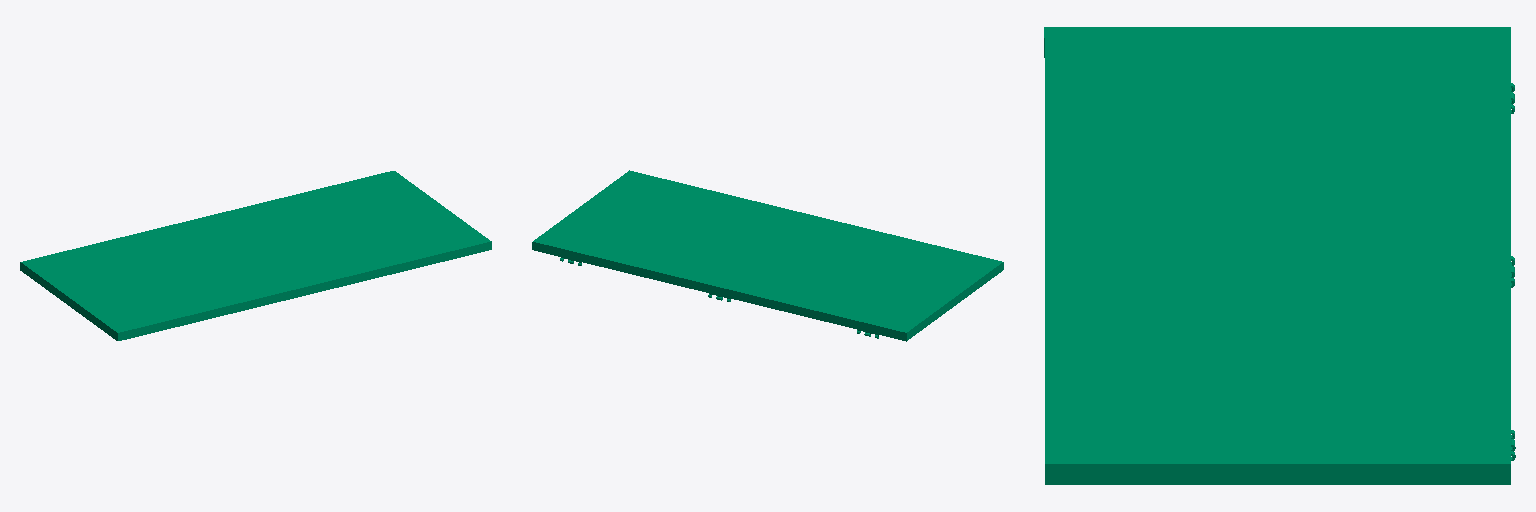
The robot description file, URDF, robot "door_test":
<robot name = 'door_test' xmlns:xacro="http://ros.org/wiki/xacro">
    <!-- <link name = 'world'/> -->
    
    <!-- <joint name = 'world2base' type = 'fixed'>
        <parent link = 'world'/>
        <child link = 'base_link'/>
    </joint> -->

    <link name = 'base_link'/>
        
    <joint name = 'base_joint' type = 'fixed'>
        <parent link = 'base_link'/>
        <origin xyz = '0 -0.5 0.0' rpy='0 0 0'/>
        <!-- if move y : the door will slide -->
        <child link = 'door_frame'/>
    </joint>

    <link name = 'door_frame'>
        <visual>
            <geometry>
                <mesh filename = './meshes/frame.dae'/>
            </geometry>
            <origin xyz = '0 0 0' rpy = '1.57 0 0'/>
            <!-- <color rgba = '0.5 0.5 0.5 1.0'/> -->
        </visual>
        <!-- <collision name = "door frame_collision">
            <geometry>
                <mesh filename = './meshes/frame.dae'/>
                <origin xyz = '0.5 0 0' rpy = '1.57 0 0'/>
            </geometry>
        </collision> -->
        <collision name="side_1_:hinge_side">
            <geometry>
                <box size = '0.05029 0.06858 2.10820'/>
            </geometry>
            <origin xyz = '-0.02 0.02 1.05' rpy = '0 0 0'/>
        </collision>
        <collision name="side_2">
            <geometry>
                <box size = '0.05029 0.06858 2.10820'/>
            </geometry>
            <origin xyz="-0.02 1.02 1.05" rpy="0 0 0"/>
        </collision>
        <collision name="top">
            <geometry>
                <box size = '0.05029 0.92964 0.07366'/>
            </geometry>
            <origin xyz="-0.02 0.52 2.05820" rpy="0 0 0"/>
        </collision>
        <inertial>
            <origin xyz="0 0 0" rpy="0 0 0"/>
            <mass value="10000.0"/>
            <inertia ixx="0.0" ixy="0.0" ixz="0.0" iyy="0.0" iyz="0.0" izz="0.0"/>
        </inertial>
    </link>

    <joint name = 'door_hinge' type = 'revolute'>
        <axis xyz = '0 0 1'/>
        <origin xyz = '-0.07 0.972 0' rpy = '3.14159 0 0'/>
        <limit lower = '0' upper = '1.57' effort='10000' velocity="100.00"/>
        <dynamics damping="10.0" friction="0.0"/>
        <parent link = 'door_frame'/>
        <child link = 'door'/>
    </joint>

    <link name = 'door'>
        <visual>
            <geometry>
                <mesh filename = './meshes/door.dae'/>
            </geometry>
            <origin xyz = '-0.05 0 0' rpy = '-1.57 0 1.57'/>
            <color rgba = '0.5 0.5 0.5 1.0'/>
        </visual>
        <collision name="door_collision">
            <geometry>
                <mesh filename = './meshes/door.dae'/>
            </geometry>
            <origin xyz = '-0.05 0 0' rpy = '-1.57 0 1.57'/>
        </collision>
        <inertial>
            <origin xyz="0.4569 0.0349 1.016" rpy="0 0 0"/>
            <mass value="41.3256"/>
            <inertia ixx="14.2053" ixy="0.0004" ixz="0.0000" iyy="17.1997" iyz="0.0000" izz="3.0298"/>
        </inertial>
    </link>

    <joint name = 'door_handle' type = 'revolute'>
        <axis xyz = '-1 0 0' rpy = '0 0 0 '/>
        <parent link = 'door'/>
        <origin xyz = '0.035 0.75 -1.02'/>
        <limit lower = '0' upper = '0.5236' effort='100' velocity="1000.00"/>
        <dynamics damping="0.0" friction="0.0"/>
        <child link = 'door_handles'/>
    </joint>

    <link name = 'door_handles'>
        <visual>
            <geometry>
                <mesh filename = './meshes/door_handle.dae'/>
            </geometry>
            <origin xyz = '0 0 0' rpy = '0 3.141592 1.57'/>
            <color rgba = '0.55 0.5 0.5 1.0'/>
        </visual>
        <visual>
            <geometry>
                <mesh filename = './meshes/door_handle.dae'/>
            </geometry>
            <origin xyz = '0.04 0 0' rpy = '0 0 -1.57'/>
             <color rgba = '0.5 0.5 0.5 1.0'/>
        </visual>
        <collision name="door_handles_collision">
            <geometry>
                <mesh filename="./meshes/door_handle.dae"/>
            </geometry>
            <origin xyz = '0 0 0' rpy = '0 3.141592 1.57'/>
        </collision>
        <collision name="door_handles_collision">
            <geometry>
                <mesh filename="./meshes/door_handle.dae"/>
            </geometry>
            <origin xyz = '0.045 0 0' rpy = '0 0 -1.57'/>
        </collision>
        <inertial>
            <origin xyz="0.0 0.0 0.0" rpy="3.14159 0 1.57"/>
            <mass value="1.0"/>
            <!-- <inertia ixx="14.2053" ixy="0.0004" ixz="0.0000" iyy="17.1997" iyz="0.0000" izz="3.0298"/> -->
        </inertial>
    </link>
    
    <joint name = 'handle2latch' type = 'fixed'>
        <parent link = 'door_handles'/>
        <child link = 'door_latch'/>
    </joint>

    <link name='door_latch'>
        <collision>
            <geometry>
                <box size='0.001 0.14 0.01'/>
            </geometry>
            <origin xyz = '0.043 0.1 0' rpy = '0 0 0'/>
        </collision>
    </link>
    <!-- <gazebo reference="world">
        <material>Gazebo/Red</material>
    </gazebo> -->

</robot>

--- Facts derived from the render (not from the file) ---
3 views of the same robot in one strip: view 1: azimuth 30°, elevation 25°; view 2: azimuth 150°, elevation 25°; view 3: azimuth 270°, elevation 25° (orthographic).
Model door_test with 5 links and 4 joints (2 revolute, 2 fixed), rooted at base_link, posed all joints at 0.
Visible links, largest first — view 1: door; view 2: door; view 3: door.
Boxes of the visible links, x1=… form: door: x1=20, y1=171, x2=491, y2=340; door: x1=532, y1=170, x2=1003, y2=341; door: x1=1044, y1=27, x2=1515, y2=484.
Size in the robot's own frame: 2.03 by 0.9242 by 0.0664 metres.
1 mesh visuals loaded from 3 distinct referenced files (1 Collada DAE); not drawn: 3 (reference not matched to a file when rendering).